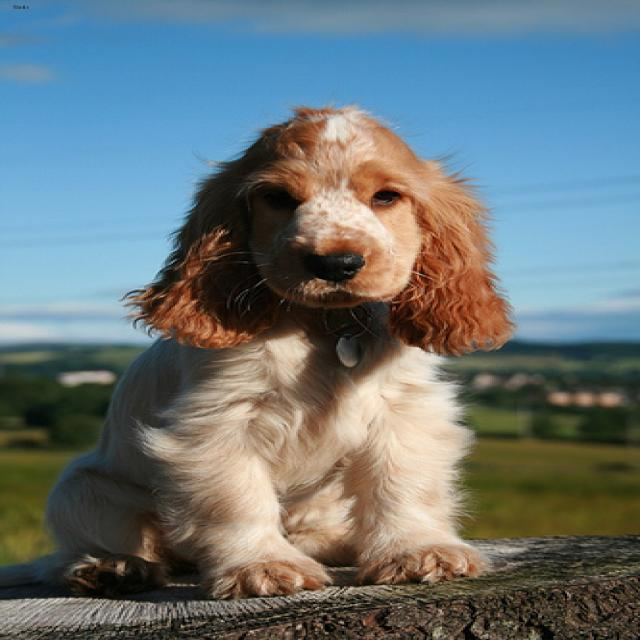dog-english_cocker_spaniel: (2, 93, 534, 608)
